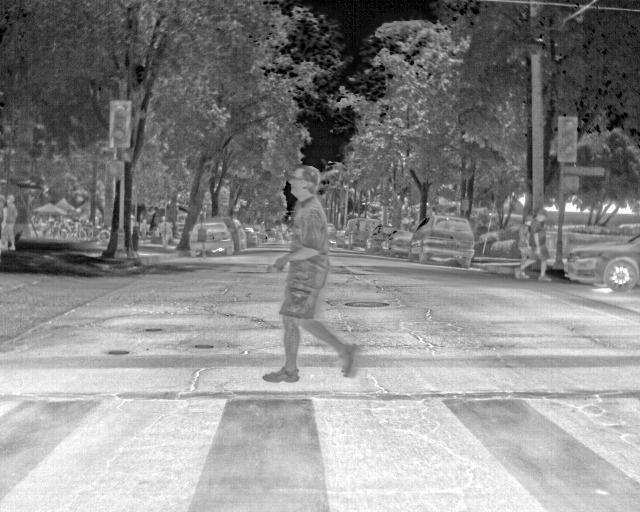bicycle: (565, 233, 639, 295), (410, 212, 477, 268), (189, 222, 233, 261), (340, 214, 382, 249), (366, 223, 394, 252), (389, 229, 412, 257), (233, 217, 247, 250)
empty: (264, 163, 361, 384), (511, 217, 534, 284), (531, 211, 549, 283), (5, 194, 19, 254), (154, 213, 174, 247)
